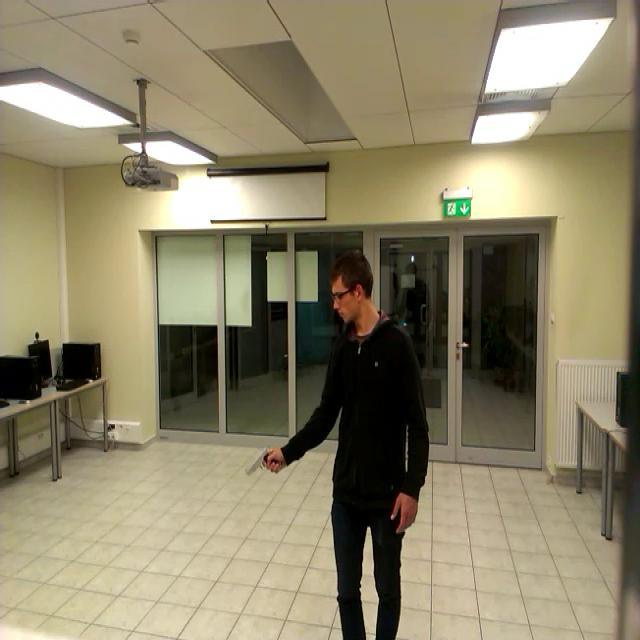Gun: (244, 446, 280, 474)
